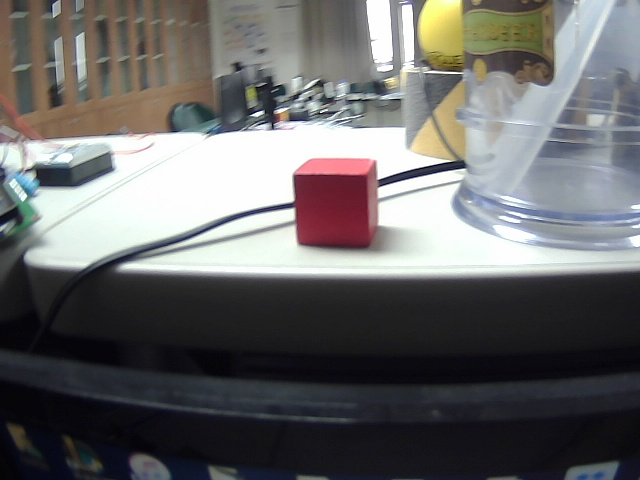redbox: (287, 151, 395, 255)
